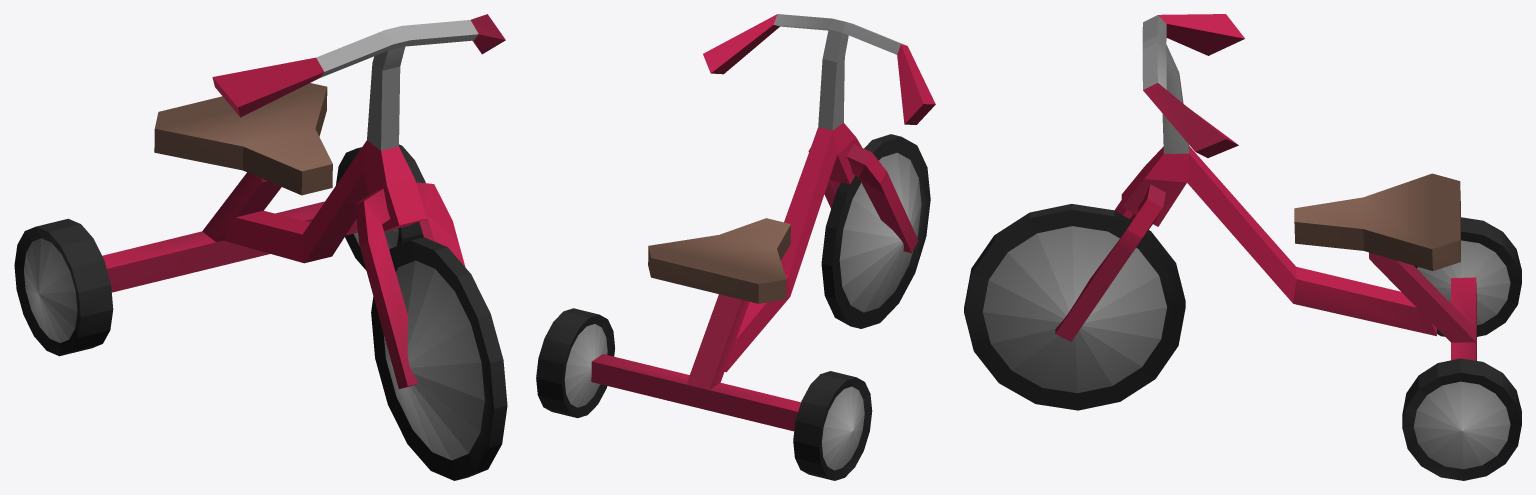
The model's file is tricycle.fbx.
The picture shows the model from 3 angles, left to right: view 1: azimuth 30°, elevation 25°; view 2: azimuth 150°, elevation 25°; view 3: azimuth 270°, elevation 25°; orthographic projection. The views are drawn at different scales.
Parts seen in each view (by area): view 1: tricycle; view 2: tricycle; view 3: tricycle.
Boxes of the visible parts, x1,y1,x2,y2 form: tricycle: (14,14,507,480); tricycle: (536,14,935,480); tricycle: (964,14,1521,480).
Bounding box in the file's own units: 0.6815 × 0.7156 × 0.9813.
